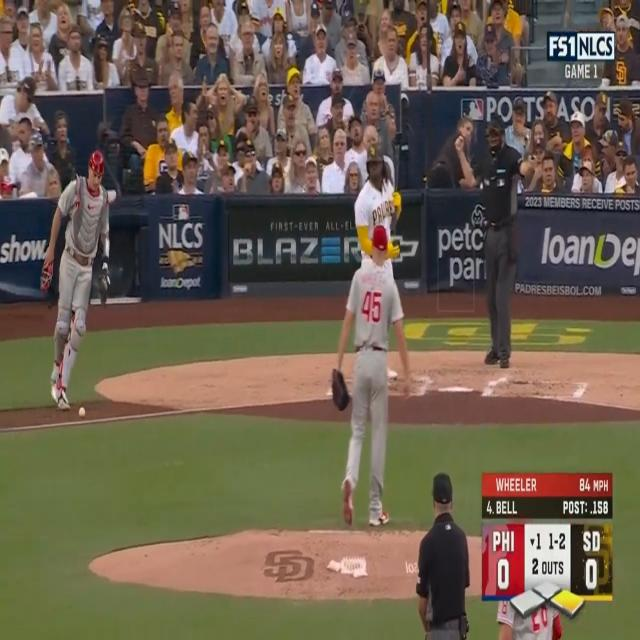baseball: (79, 406, 86, 418)
